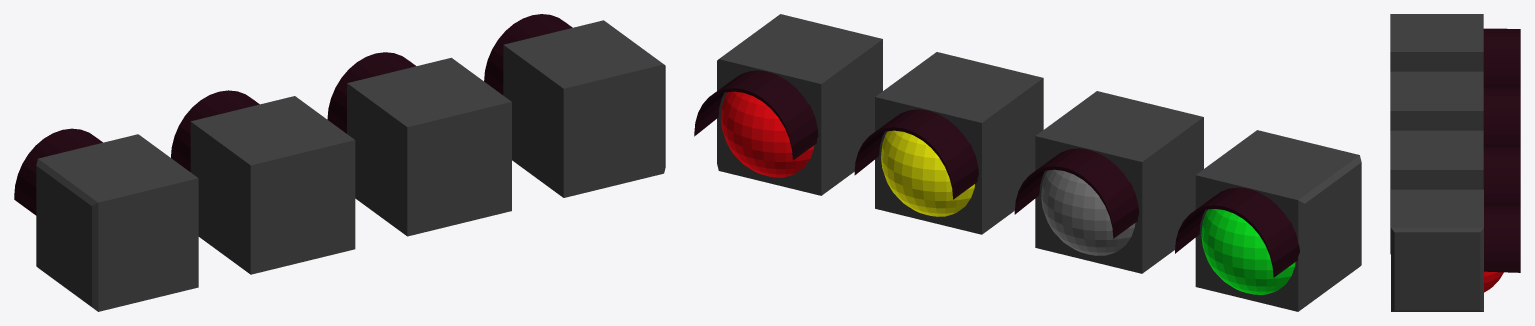
File: 信号機.fbx
3 views of the same model, side by side, from view 1: azimuth 30°, elevation 25°; view 2: azimuth 150°, elevation 25°; view 3: azimuth 270°, elevation 25° (orthographic). The views are drawn at different scales.
Visible parts, largest first — view 1: 信号.003, 信号.004, 信号.002, 信号.001, サンバイザー.004, サンバイザー.003, サンバイザー.002, サンバイザー.001; view 2: 信号.004, 信号.002, 信号.003, 信号.001, ライト.003, ライト.002, ライト.004, ライト.001, サンバイザー.004, サンバイザー.002, サンバイザー.003, サンバイザー.001; view 3: 信号.001, 信号.002, 信号.003, 信号.004, サンバイザー.001, サンバイザー.004, サンバイザー.003, サンバイザー.002, ライト.001.
Part boxes in pixels (box(x1,y1,x2,y2)): 信号.003: box(190, 96, 355, 274); 信号.004: box(36, 134, 198, 311); 信号.002: box(347, 57, 511, 236); 信号.001: box(503, 20, 665, 197); サンバイザー.004: box(14, 128, 102, 215); サンバイザー.003: box(171, 90, 259, 171); サンバイザー.002: box(327, 52, 416, 133); サンバイザー.001: box(484, 14, 572, 94); 信号.004: box(1195, 130, 1361, 311); 信号.002: box(875, 52, 1043, 234); 信号.003: box(1035, 91, 1203, 273); 信号.001: box(717, 14, 882, 195); ライト.003: box(1041, 169, 1135, 255); ライト.002: box(881, 130, 974, 216); ライト.004: box(1201, 209, 1295, 294); ライト.001: box(720, 91, 814, 177); サンバイザー.004: box(1175, 187, 1299, 277); サンバイザー.002: box(854, 109, 978, 199); サンバイザー.003: box(1014, 148, 1138, 238); サンバイザー.001: box(694, 70, 818, 160); 信号.001: box(1391, 189, 1483, 311); 信号.002: box(1390, 130, 1483, 254); 信号.003: box(1390, 71, 1483, 130); 信号.004: box(1390, 14, 1483, 71); サンバイザー.001: box(1484, 206, 1520, 272); サンバイザー.004: box(1483, 28, 1520, 87); サンバイザー.003: box(1483, 87, 1520, 146); サンバイザー.002: box(1483, 146, 1520, 205); ライト.001: box(1484, 271, 1503, 292).
Bounding box in the file's own units: 1100 × 200 × 279.
